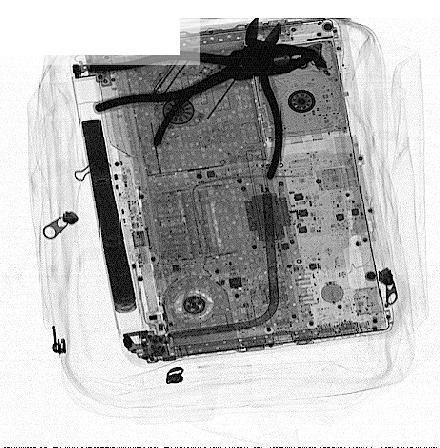Pliers: (150, 14, 284, 183), (85, 43, 322, 113)
